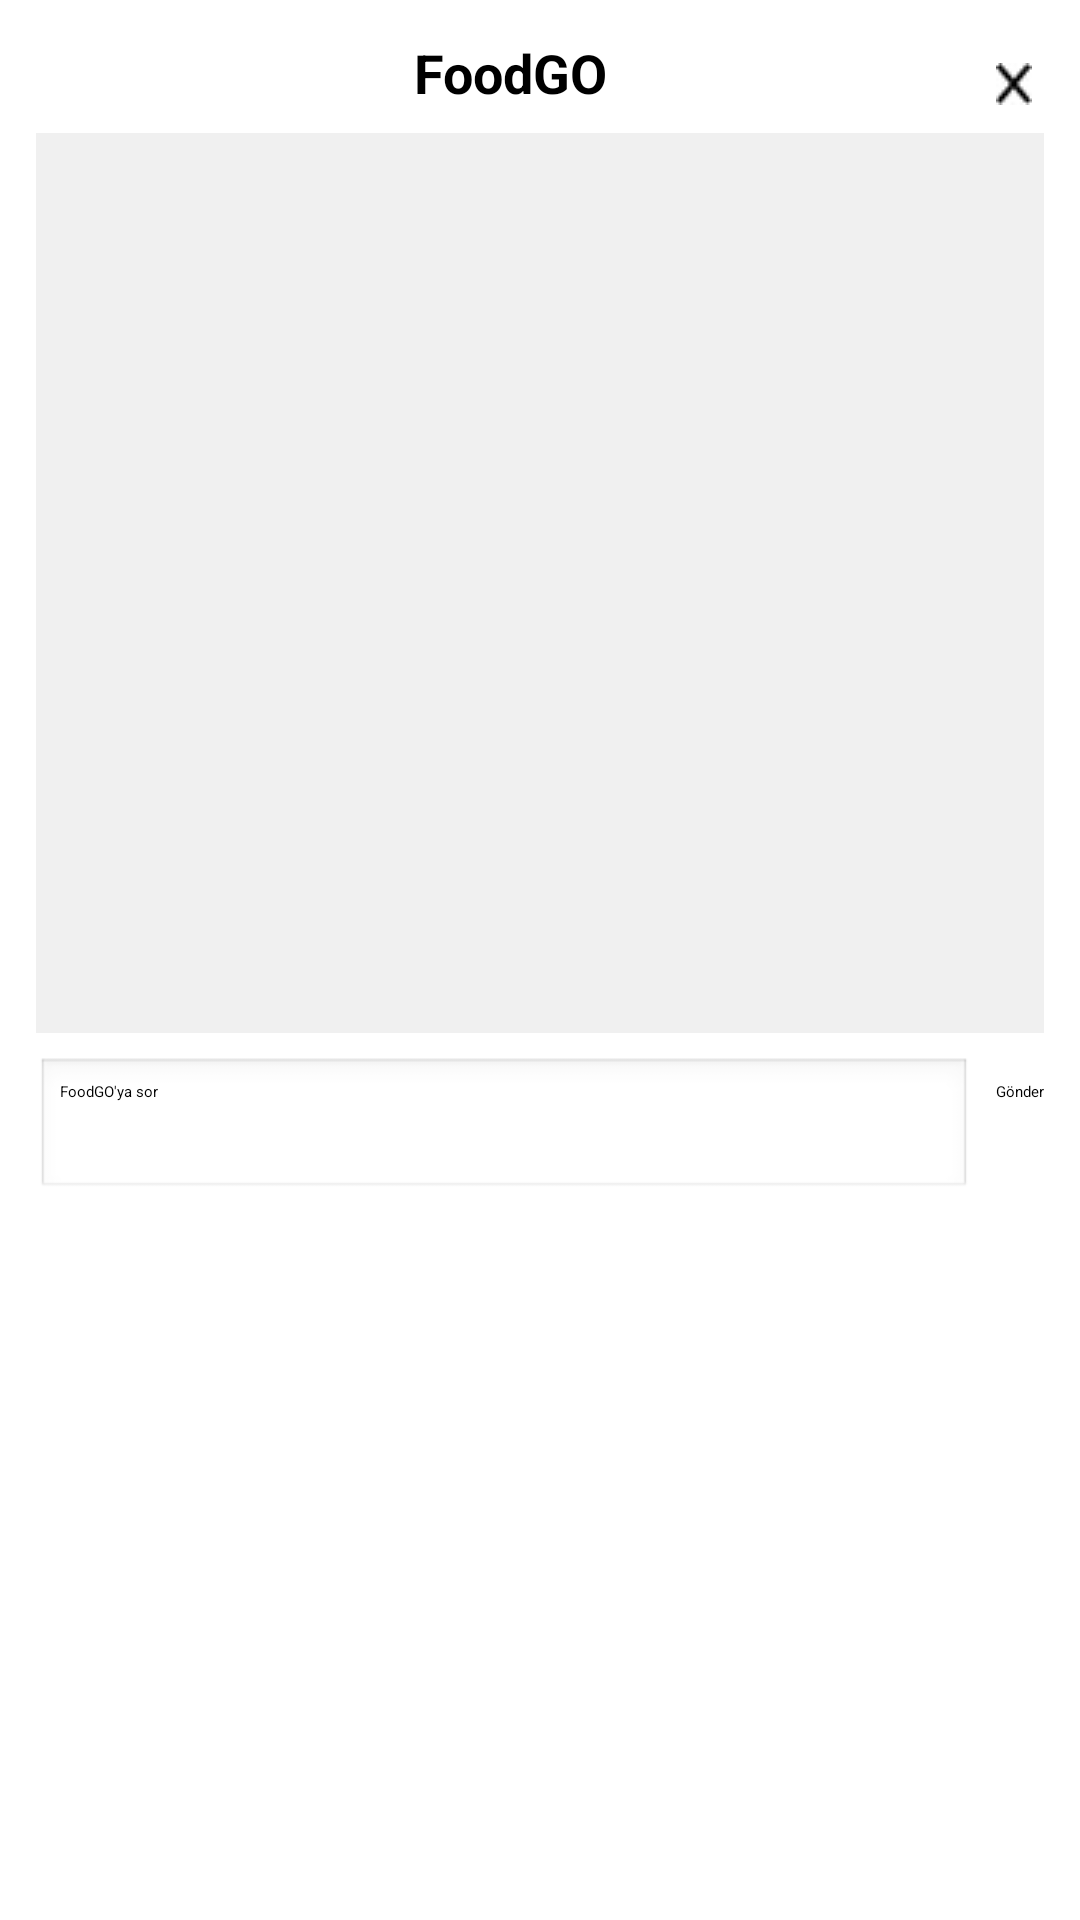

Locate icon controls on the screen. Image size 1080*1920, boxes as (x1, y1, x2, y2).
Kapat: (996, 63, 1032, 105)
